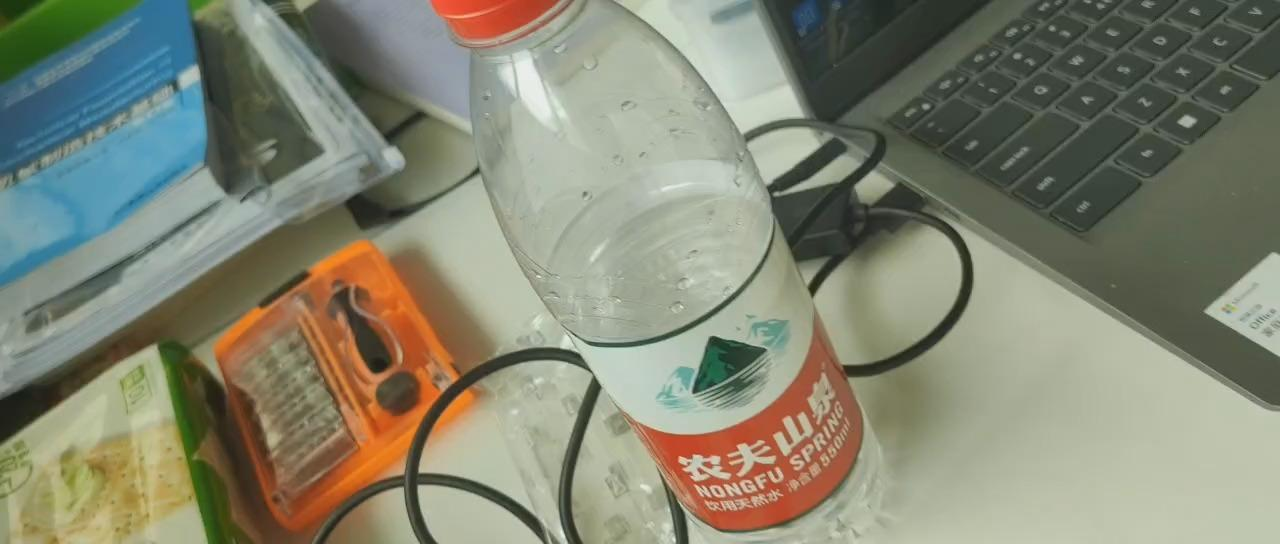BIODEGRADABLE: (435, 0, 894, 539)
